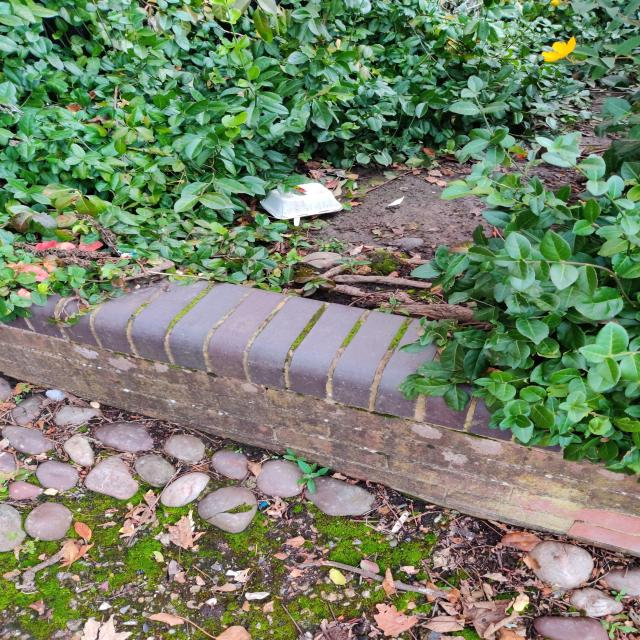litter: (246, 171, 352, 235)
